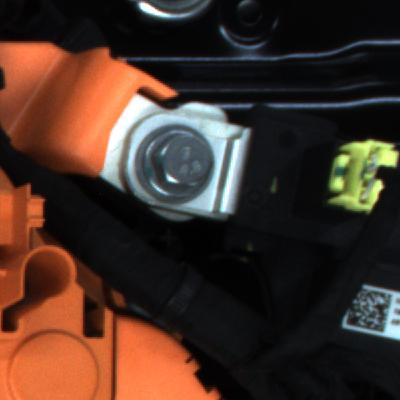nut_b: (136, 124, 226, 207)
